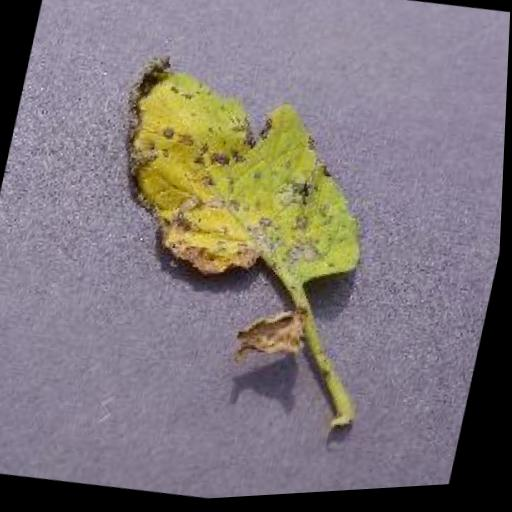Septoria: (97, 40, 403, 309)
